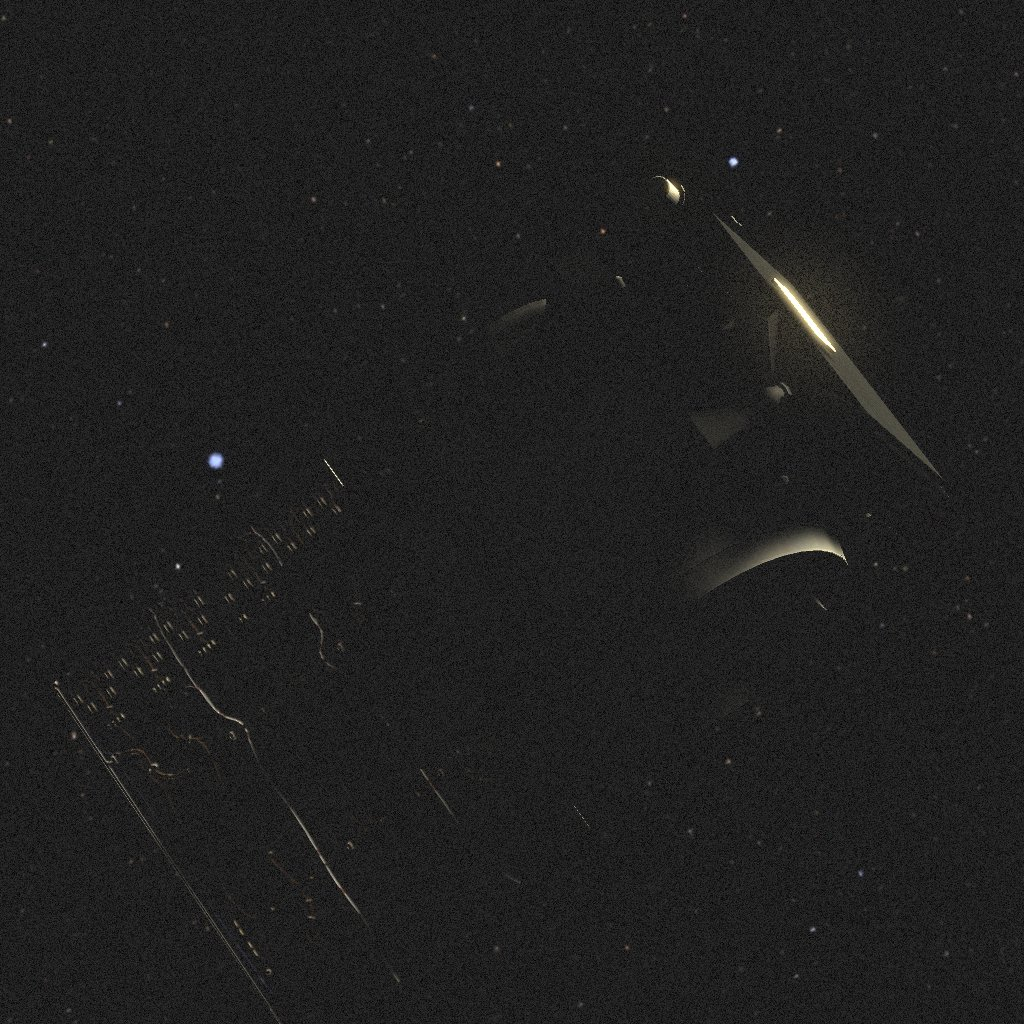proba_3_csc: (50, 172, 964, 992)
